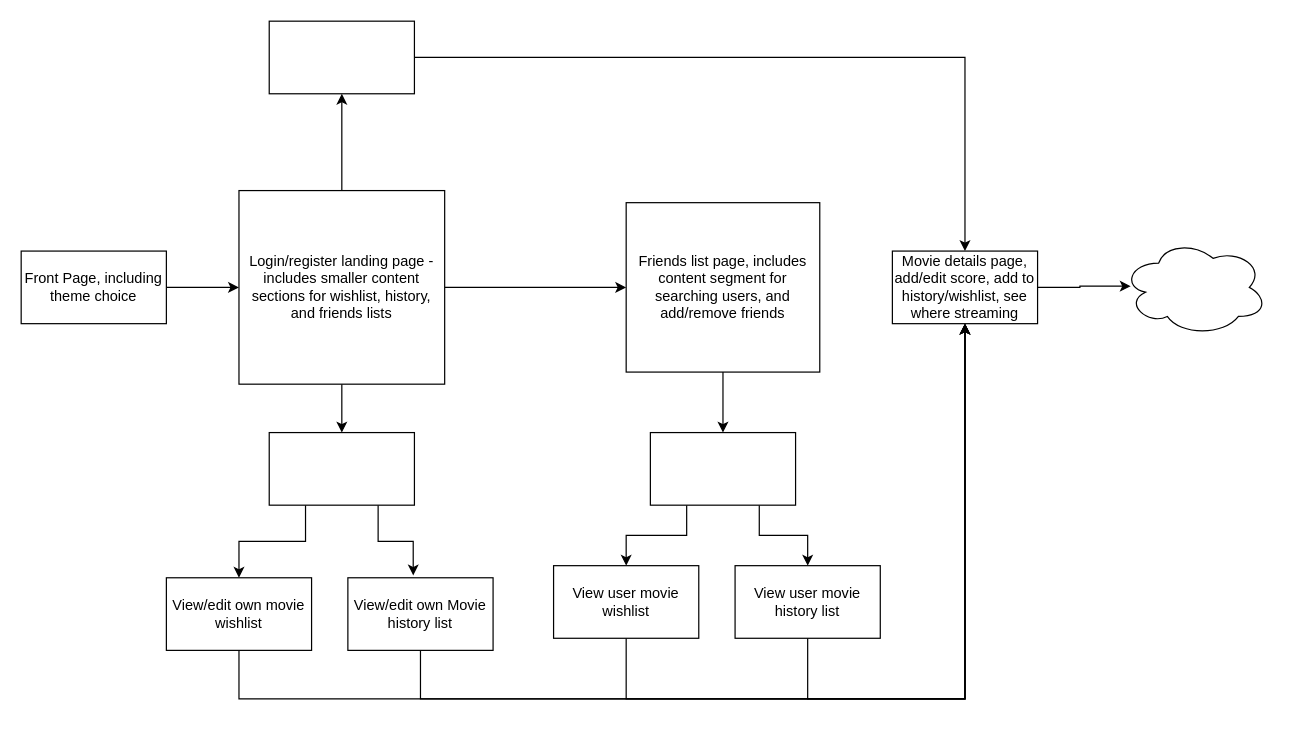
Image size: 1289x730. Some labels were removed from this diagram. Here are the shapes that lost their labels. From the top down, the centre of each, then its label:
At (341,57): "Search/feeling lucky movies/get by genre, cast, rating, etc.".
At (1194,287): "IMDB".
At (341,468): "View/edit own profile".
At (722,468): "View user profile".
